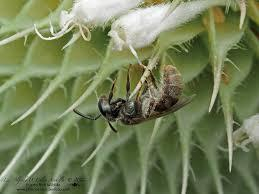Lasioglossum: (74, 63, 200, 132)
